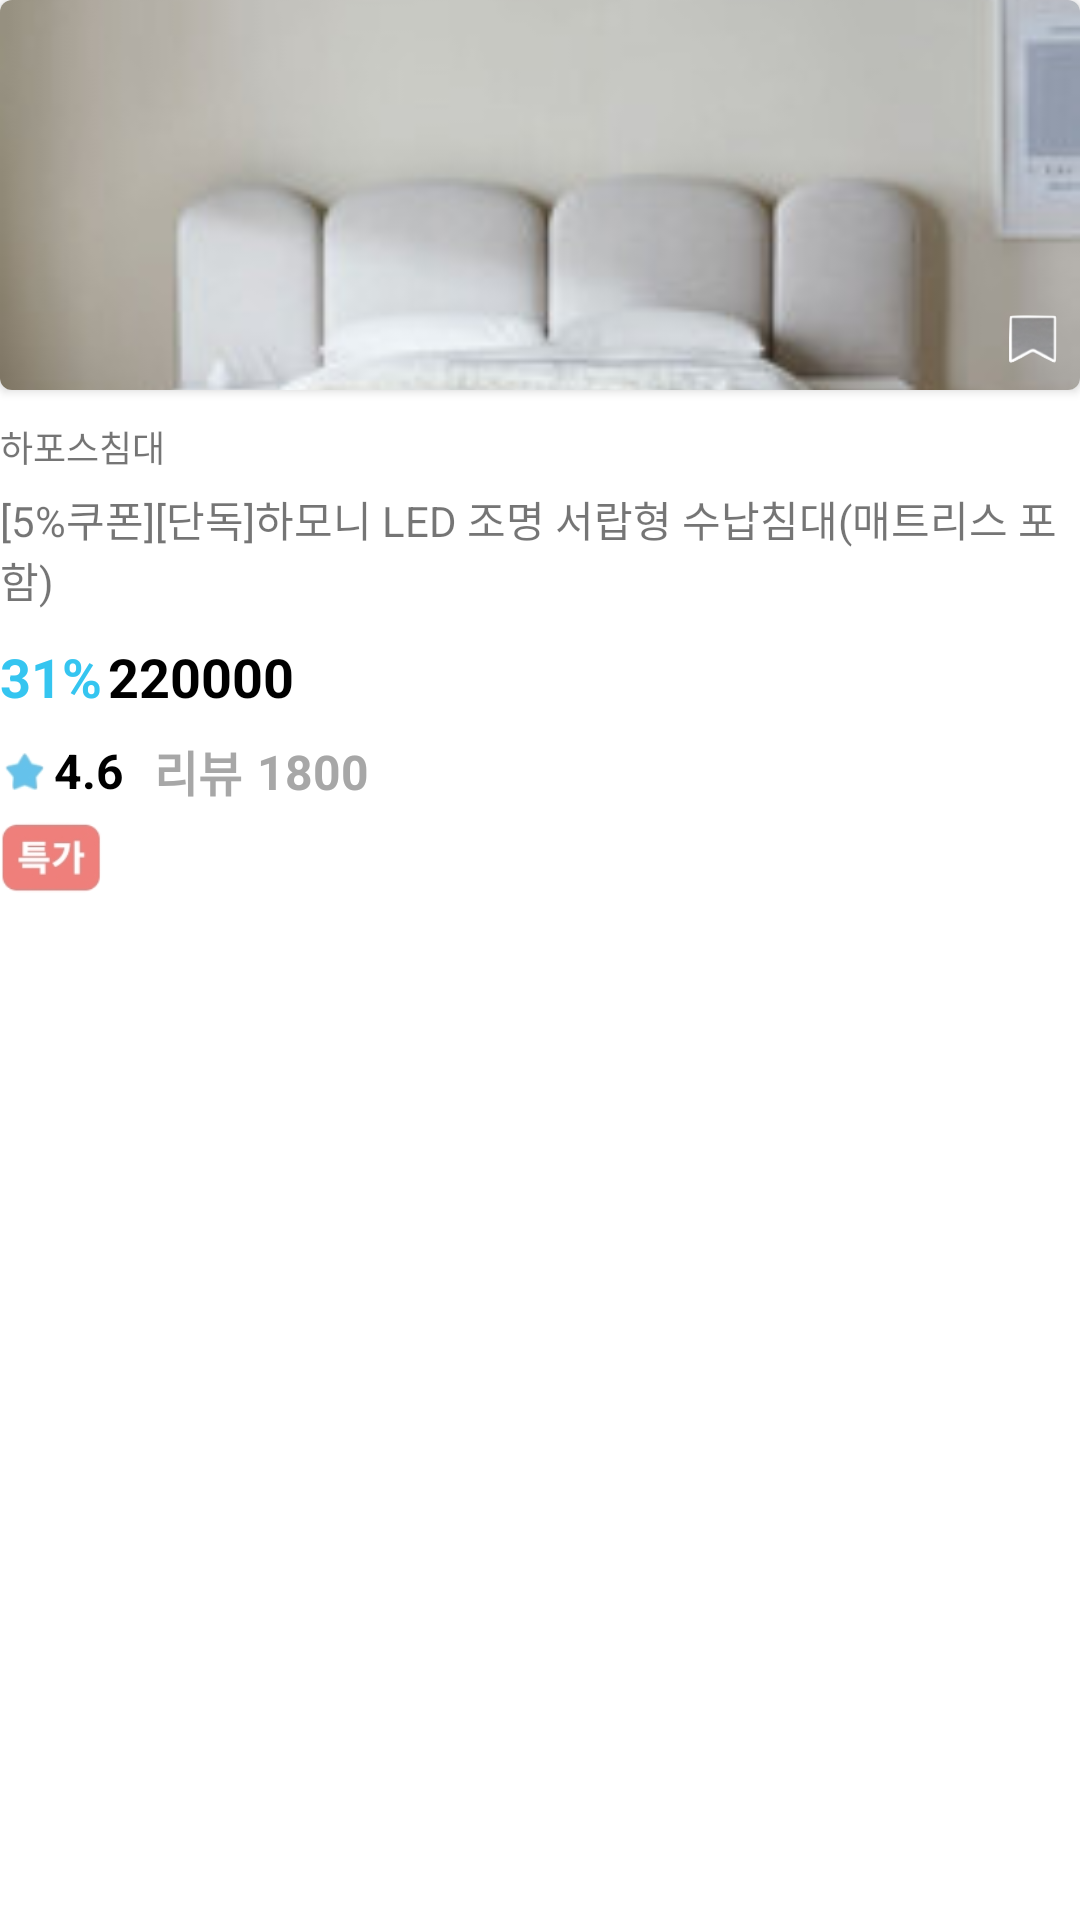

Where icons sit on this 1080×1920 app screen, as (x1, y1, x2, y2):
store star: (6, 753, 43, 790)
